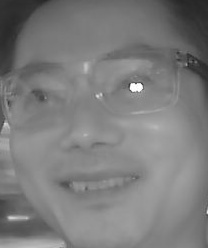glass: (90, 45, 184, 115), (1, 63, 79, 127)
mouth: (55, 166, 140, 203)
